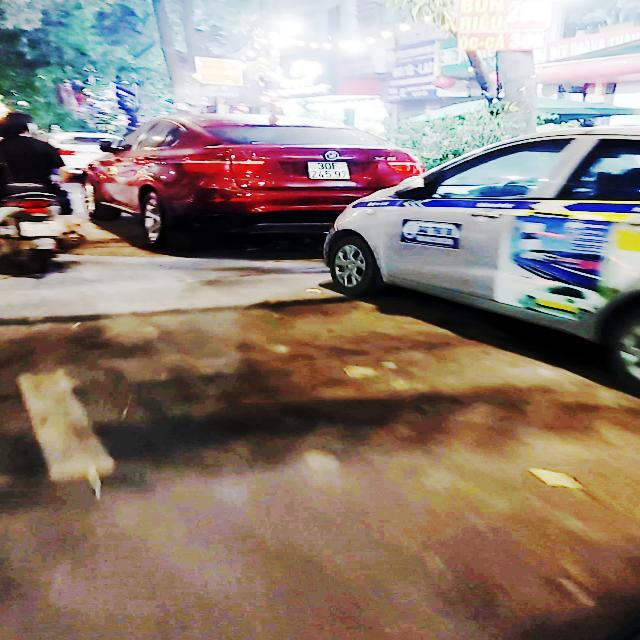license_plate: (308, 163, 352, 180)
